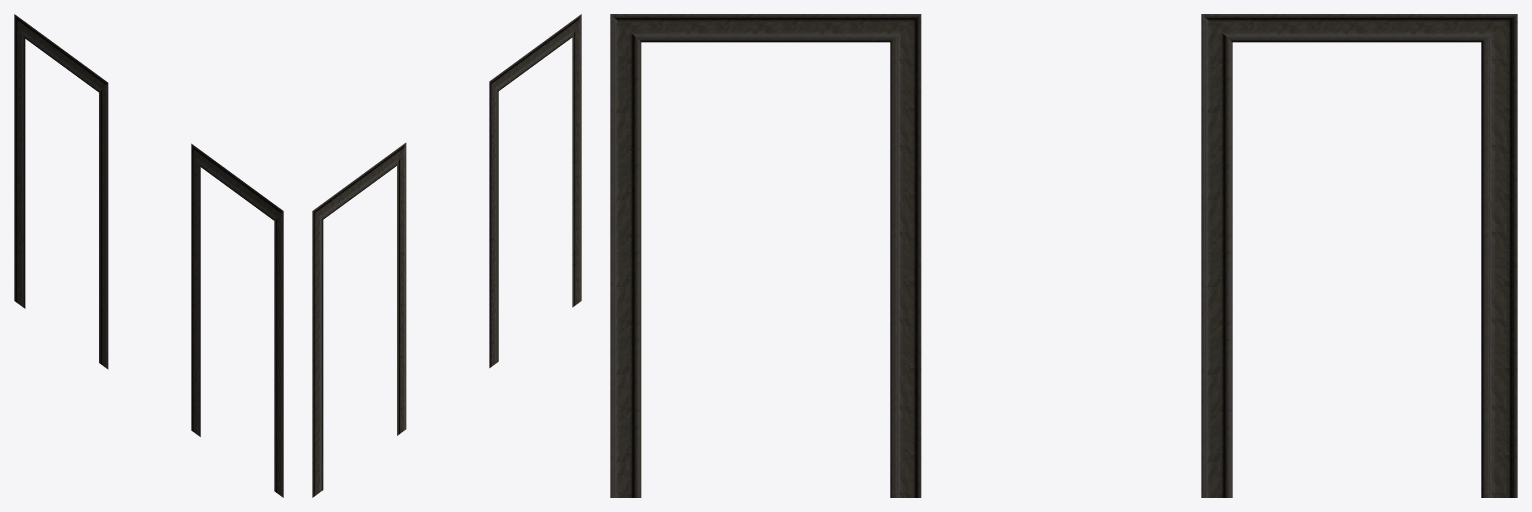
Rendered from Archives_Alpha_120.glb.
3 renders of one model, left to right at view 1: azimuth 30°, elevation 25°; view 2: azimuth 150°, elevation 25°; view 3: azimuth 270°, elevation 25°, orthographic. The views are drawn at different scales.
Parts seen in each view (by area): view 1: Archives_Alpha_120; view 2: Archives_Alpha_120; view 3: Archives_Alpha_120.
Part boxes in pixels (x1,y1,x2,y2): Archives_Alpha_120: [14, 14, 283, 497]; Archives_Alpha_120: [312, 14, 581, 497]; Archives_Alpha_120: [610, 14, 1517, 497].
Bounding box in the file's own units: 0 × 12.88 × 21.88.
1 material, 1 textured.
